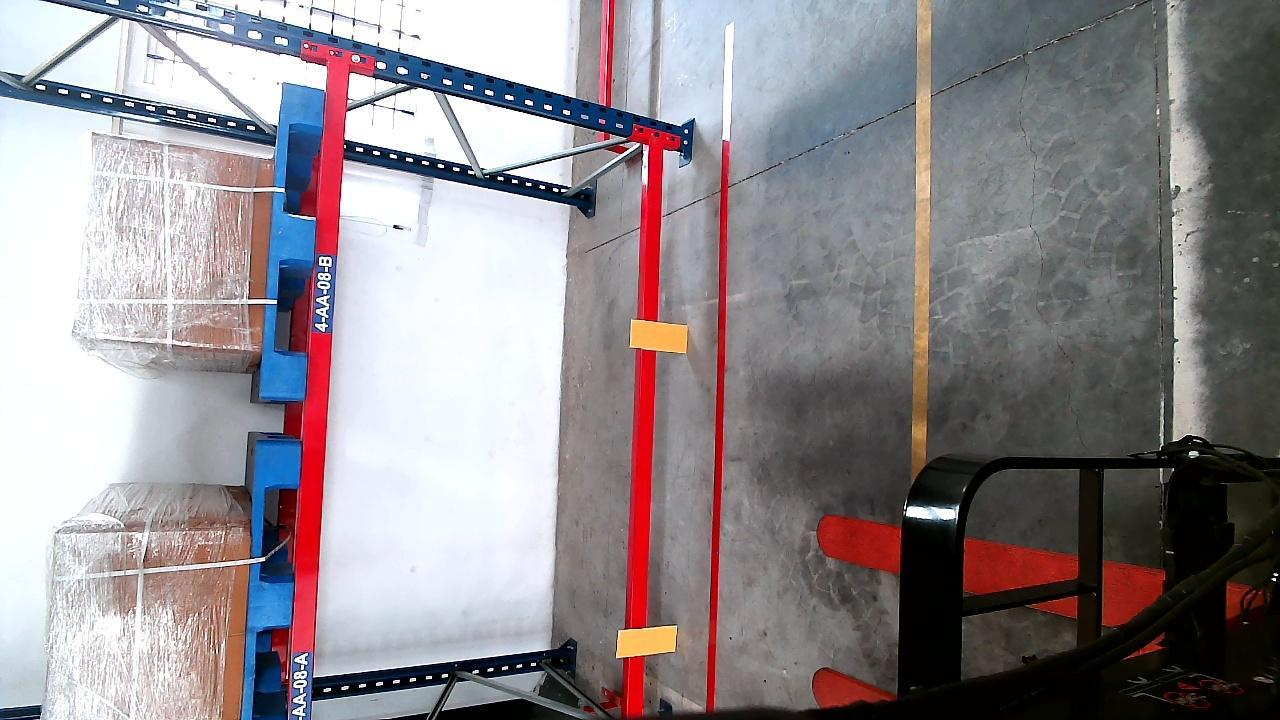red_line: (699, 134, 731, 710)
yellow_line: (910, 0, 935, 470)
